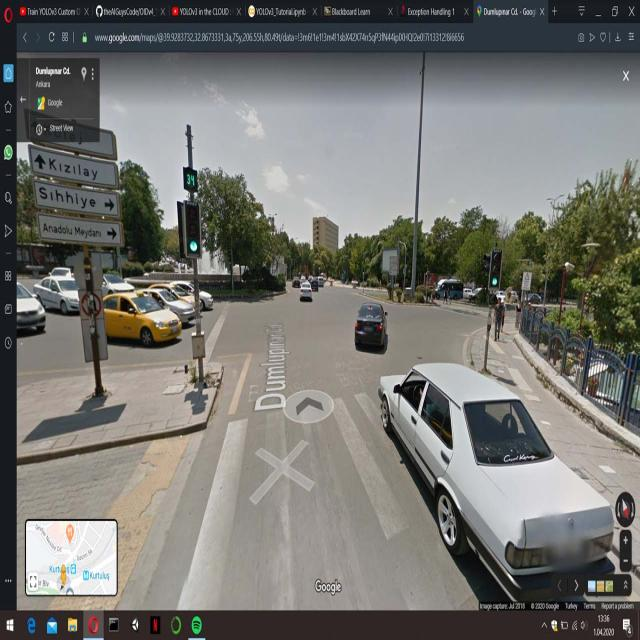yesil: (183, 203, 201, 257), (491, 250, 499, 290)
